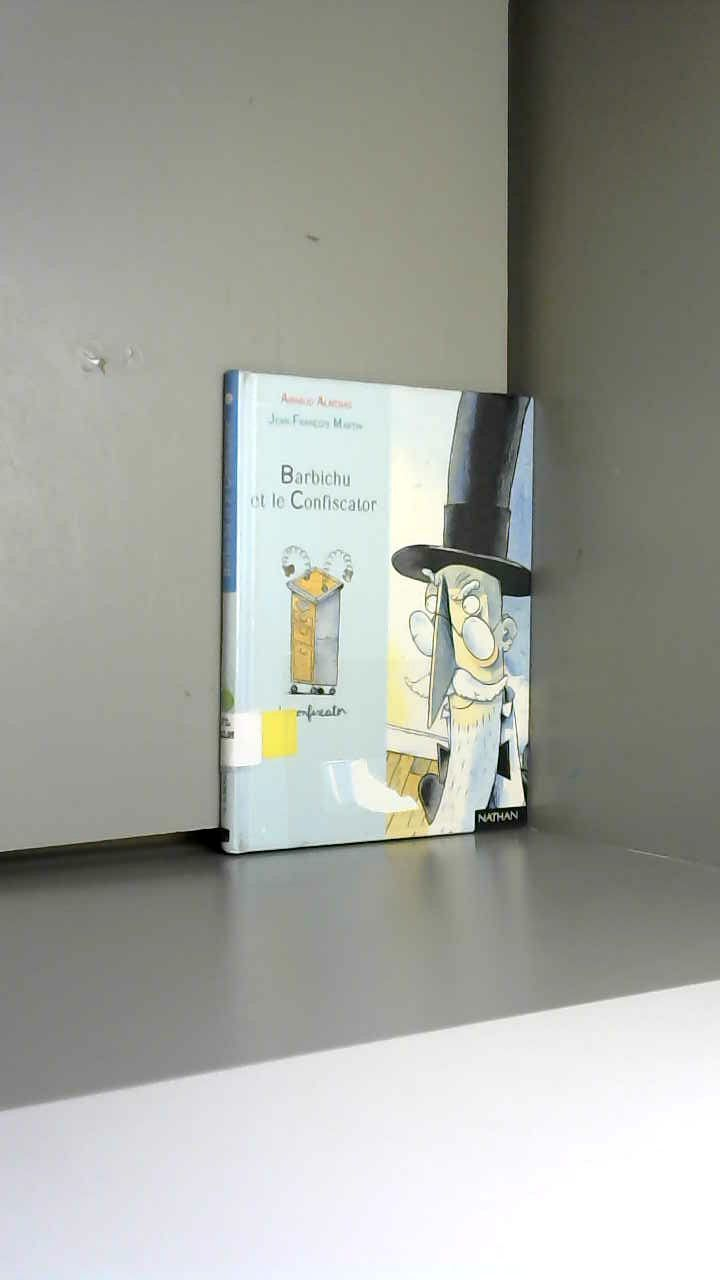book: (189, 331, 574, 885)
